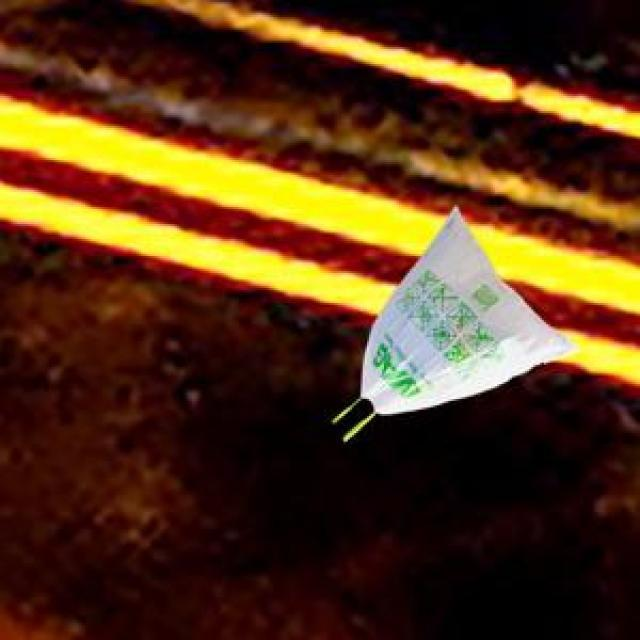waste: (332, 208, 572, 442)
